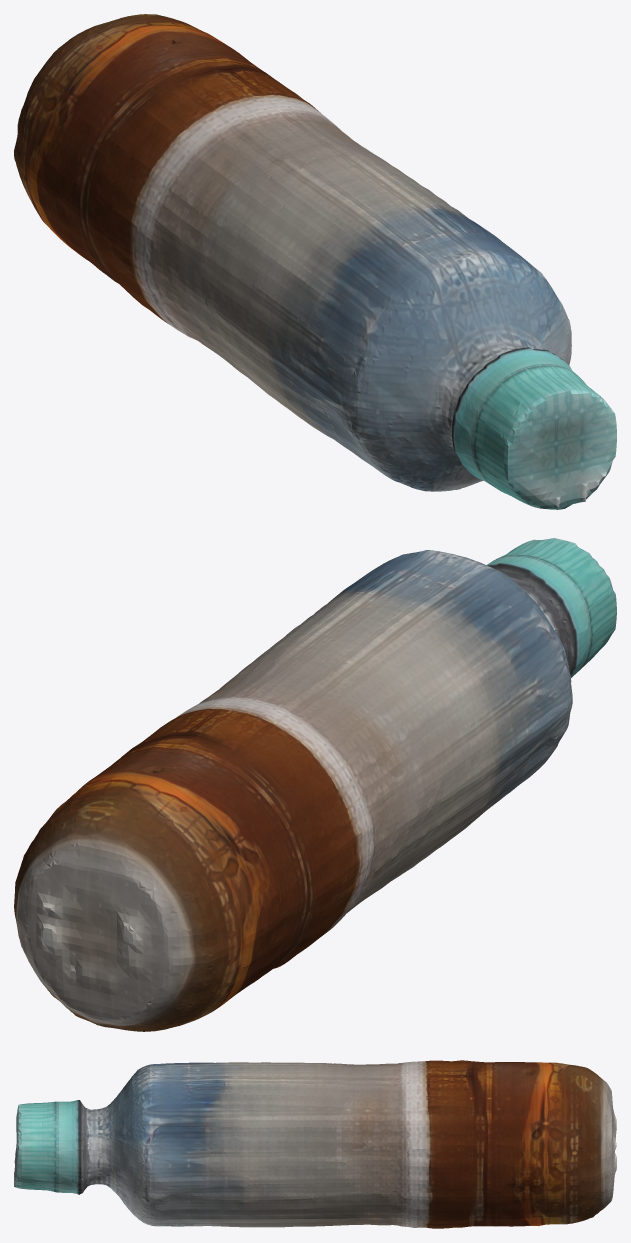
Rendered from custom.obj.
The picture shows the model from 3 angles, top to bottom: view 1: azimuth 30°, elevation 25°; view 2: azimuth 150°, elevation 25°; view 3: azimuth 270°, elevation 25°; orthographic projection. The views are drawn at different scales.
Bounding box in the file's own units: 0.5626 × 0.5602 × 2.
